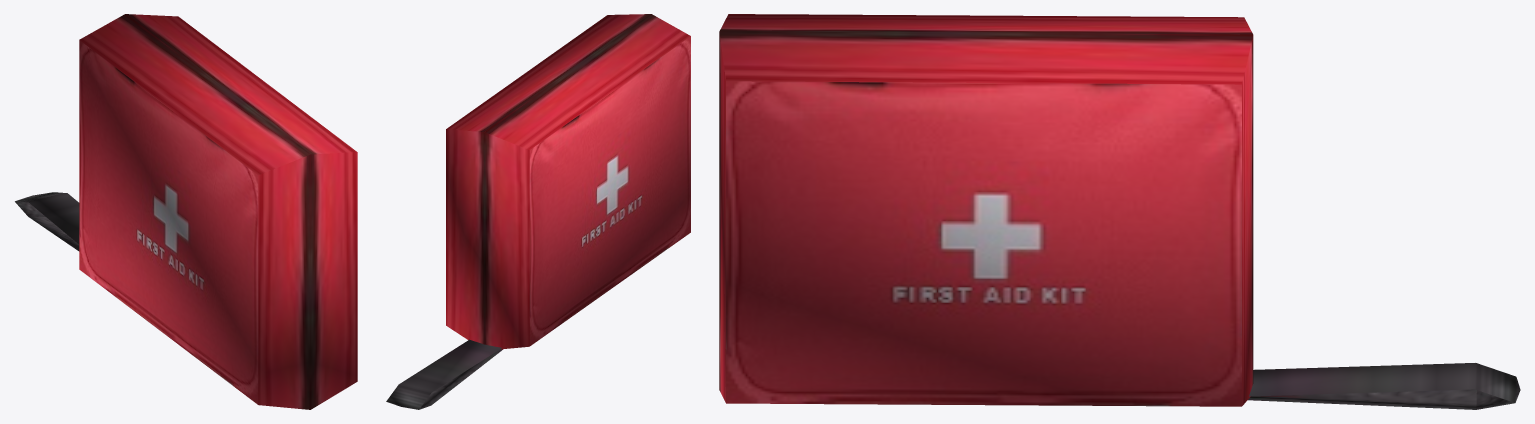
The picture shows the model from 3 angles, left to right: view 1: azimuth 30°, elevation 25°; view 2: azimuth 150°, elevation 25°; view 3: azimuth 270°, elevation 25°; orthographic projection. The views are drawn at different scales.
Parts seen in each view (by area): view 1: Med_Kit_Closed; view 2: Med_Kit_Closed; view 3: Med_Kit_Closed.
Boxes of the visible parts, bbox=[...] form: Med_Kit_Closed: bbox=[15, 14, 357, 409]; Med_Kit_Closed: bbox=[386, 14, 690, 409]; Med_Kit_Closed: bbox=[719, 14, 1520, 409].
Bounding box in the file's own units: 1.1 × 2.66 × 5.26.
Materials: 1 (1 with a texture image).
